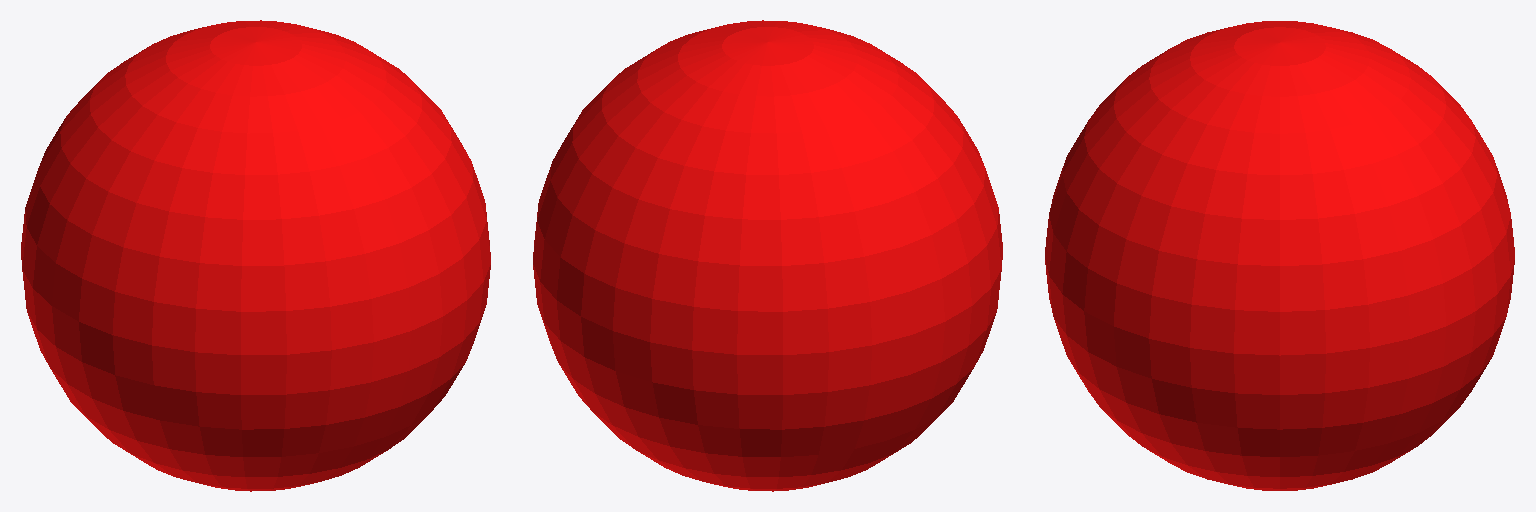
robot.urdf — marker_visual_only:
<?xml version="1.0"?>
<robot name="marker_visual_only">
  <link name="base">
    <visual>
      <origin xyz="0 0 0" rpy="0 0 0"/>
      <geometry>
        <sphere radius="0.012"/>
      </geometry>
      <material name="marker_red">
        <color rgba="1.0 0.1 0.1 1.0"/>
      </material>
    </visual>
  </link>
</robot>

--- Render facts (derived) ---
3 views of the same robot in one strip: view 1: azimuth 30°, elevation 25°; view 2: azimuth 150°, elevation 25°; view 3: azimuth 270°, elevation 25° (orthographic).
Robot: marker_visual_only — 1 links, 0 joints (none); root link base; default pose: all joints at 0.
Links seen in each view (by area): view 1: base; view 2: base; view 3: base.
Link boxes in pixels (<box>): base: <box>21,20,490,491</box>; base: <box>533,20,1002,491</box>; base: <box>1045,21,1514,490</box>.
Size in the robot's own frame: 0.024 by 0.024 by 0.024 metres.
Geometry: primitives only (box / cylinder / sphere), no mesh files.
